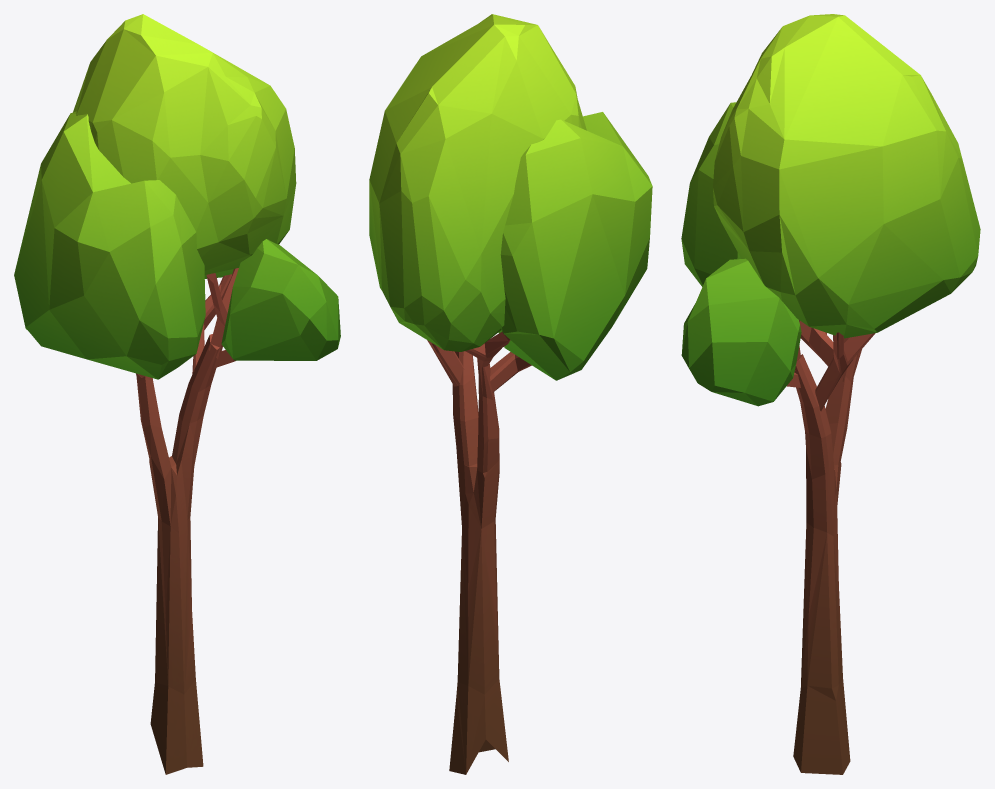
File: samor_4077_133_Slender.fbx
3 renders of one model, left to right at view 1: azimuth 30°, elevation 25°; view 2: azimuth 150°, elevation 25°; view 3: azimuth 270°, elevation 25°, orthographic. The views are drawn at different scales.
Parts seen in each view (by area): view 1: samor_4077_133_Slender; view 2: samor_4077_133_Slender; view 3: samor_4077_133_Slender.
Part boxes in pixels (box(x1,y1,x2,y2)): samor_4077_133_Slender: box(14, 14, 340, 774); samor_4077_133_Slender: box(369, 14, 652, 774); samor_4077_133_Slender: box(681, 14, 980, 774).
Size of the model in its own units: 6.24 by 17.88 by 6.57.
Materials: 1 (1 with a texture image).
